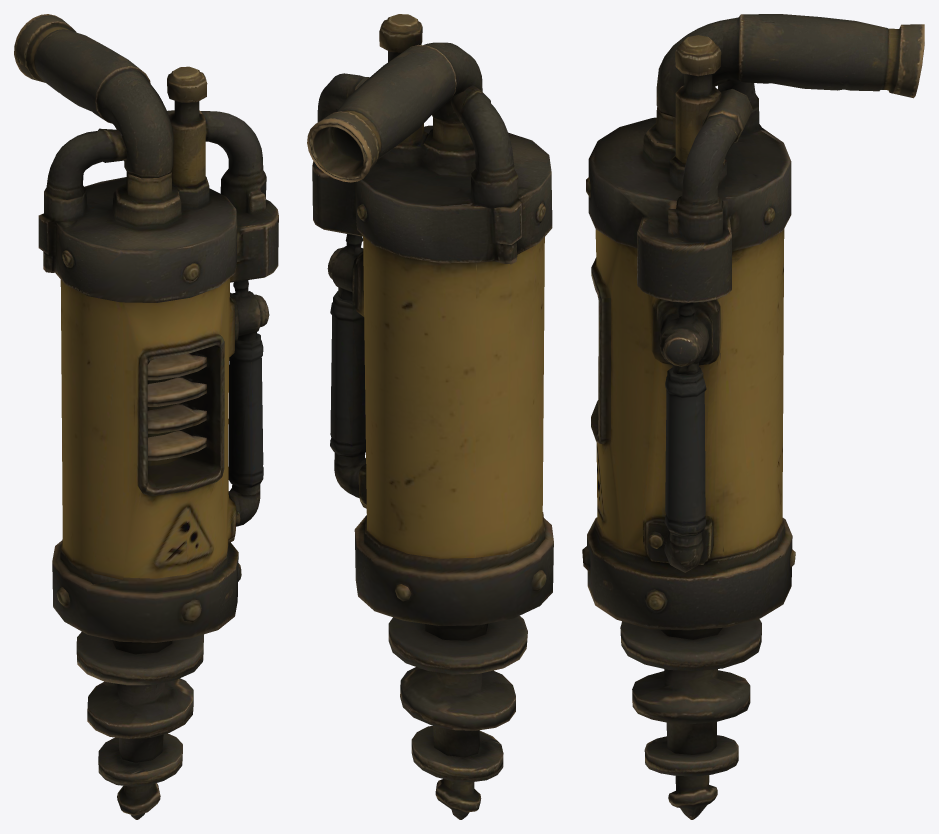
Rendered from drill_tool.glb.
3 renders of one model, left to right at view 1: azimuth 30°, elevation 25°; view 2: azimuth 150°, elevation 25°; view 3: azimuth 270°, elevation 25°, orthographic. The views are drawn at different scales.
Visible parts, largest first — view 1: tripo_node_affd6279.001, tripo_node_affd6279_002; view 2: tripo_node_affd6279.001, tripo_node_affd6279_002; view 3: tripo_node_affd6279.001, tripo_node_affd6279_002.
Boxes of the visible parts, x1,y1,x2,y2 form: tripo_node_affd6279.001: [14, 14, 278, 642]; tripo_node_affd6279_002: [76, 632, 203, 819]; tripo_node_affd6279.001: [307, 14, 553, 625]; tripo_node_affd6279_002: [388, 616, 527, 819]; tripo_node_affd6279.001: [582, 14, 924, 630]; tripo_node_affd6279_002: [620, 619, 761, 819].
Bounding box in the file's own units: 0.3009 × 1 × 0.3851.
Materials: 1 (1 with a texture image).
